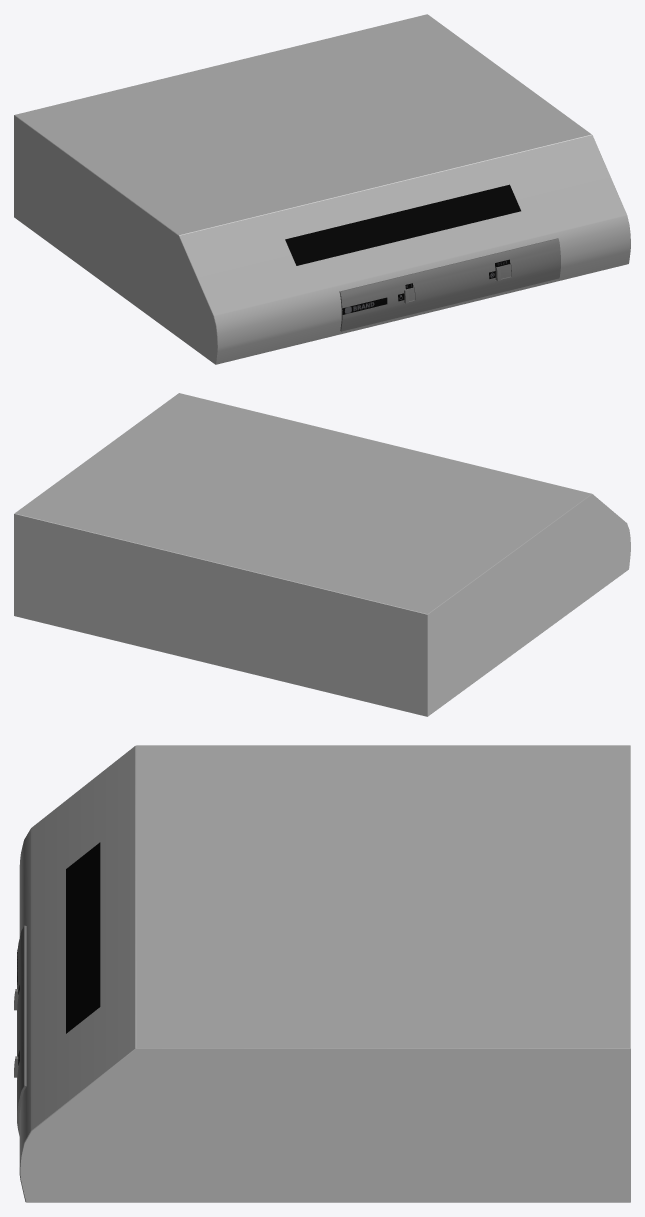
Rendered from scopia-kitchenHood.glb.
3 renders of one model, top to bottom at view 1: azimuth 30°, elevation 25°; view 2: azimuth 150°, elevation 25°; view 3: azimuth 270°, elevation 25°, orthographic. The views are drawn at different scales.
Visible parts, largest first — view 1: hood_Cube_hood_Cube_frontMetal, hood_Cube_hood_Cube_base, hood_Cube_hood_Cube_controls, components_Cube.003_components_Cube.003_components; view 2: hood_Cube_hood_Cube_frontMetal, hood_Cube_hood_Cube_base; view 3: hood_Cube_hood_Cube_frontMetal, hood_Cube_hood_Cube_base, components_Cube.003_components_Cube.003_components, hood_Cube_hood_Cube_controls.
Boxes of the visible parts, box(x1,y1,x2,y2) form: hood_Cube_hood_Cube_frontMetal: box(14, 14, 630, 364); hood_Cube_hood_Cube_base: box(14, 115, 591, 364); hood_Cube_hood_Cube_controls: box(339, 238, 560, 331); components_Cube.003_components_Cube.003_components: box(285, 184, 520, 314); hood_Cube_hood_Cube_frontMetal: box(15, 393, 626, 614); hood_Cube_hood_Cube_base: box(14, 395, 630, 716); hood_Cube_hood_Cube_frontMetal: box(19, 745, 630, 1202); hood_Cube_hood_Cube_base: box(20, 745, 630, 1202); components_Cube.003_components_Cube.003_components: box(17, 842, 100, 1065); hood_Cube_hood_Cube_controls: box(14, 925, 26, 1135).
Size of the model in its own units: 59.8 by 14.3 by 51.42.
5 materials, 1 textured.
